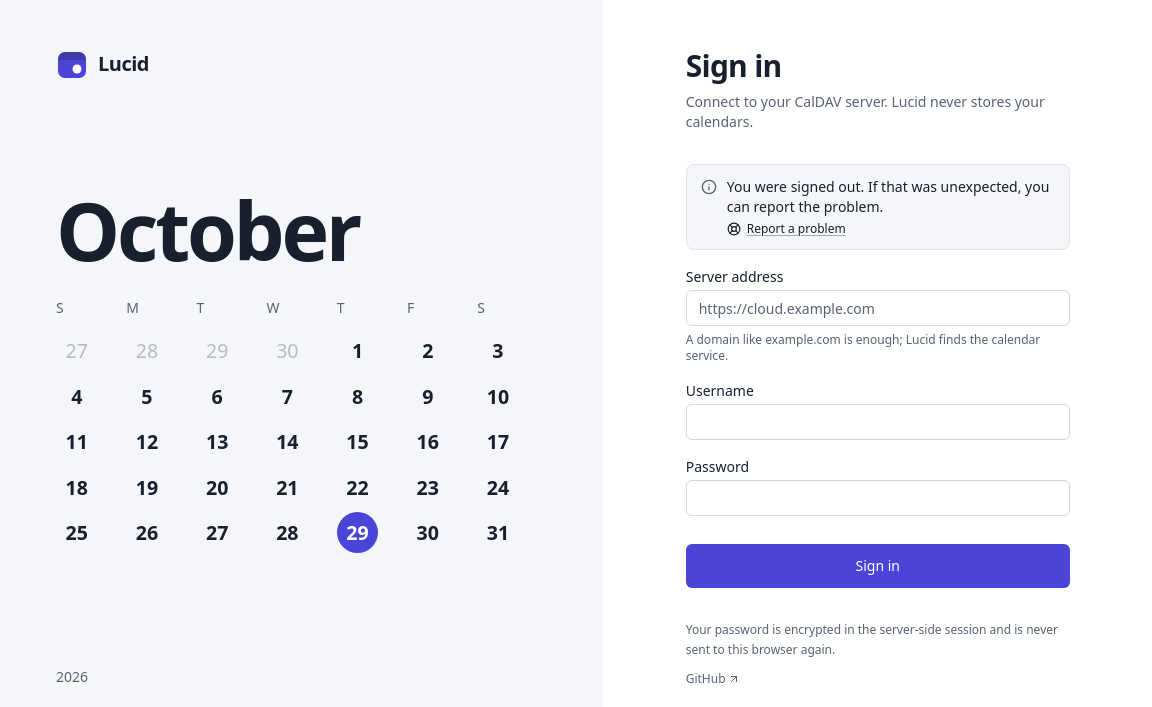
LoginPage › keeps the notice when the sign-in fails
Type "example.com" into the field labelled "Server address" at {"x": 878, "y": 308}, box x1=686 y1=290 x2=1070 y2=326
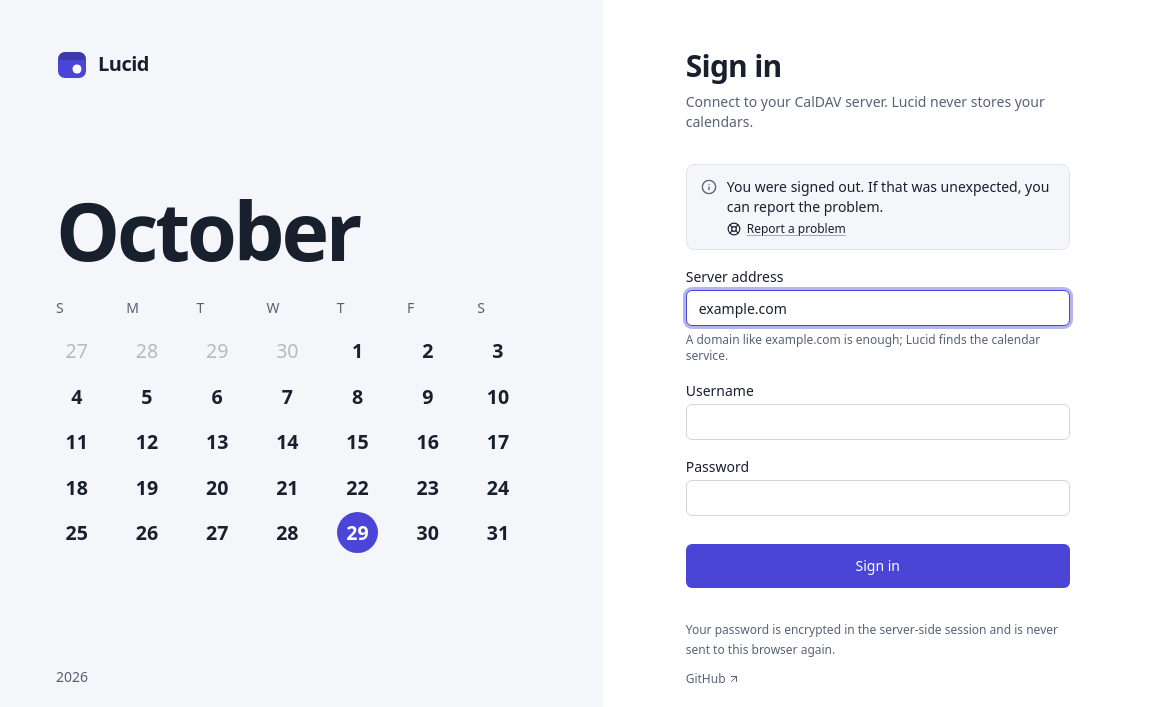
Type "tim" into the field labelled "Username" at {"x": 878, "y": 422}, box x1=686 y1=404 x2=1070 y2=440
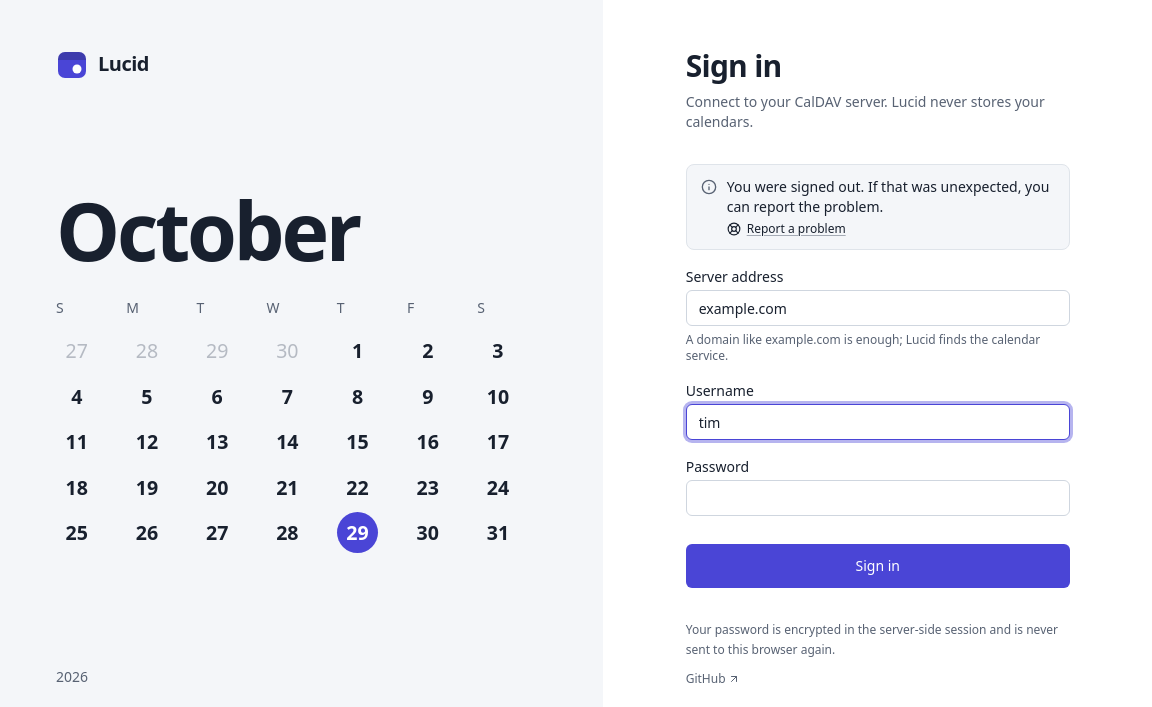
Type "wrong" into the password field labelled "Password" at {"x": 878, "y": 498}, box x1=686 y1=480 x2=1070 y2=516
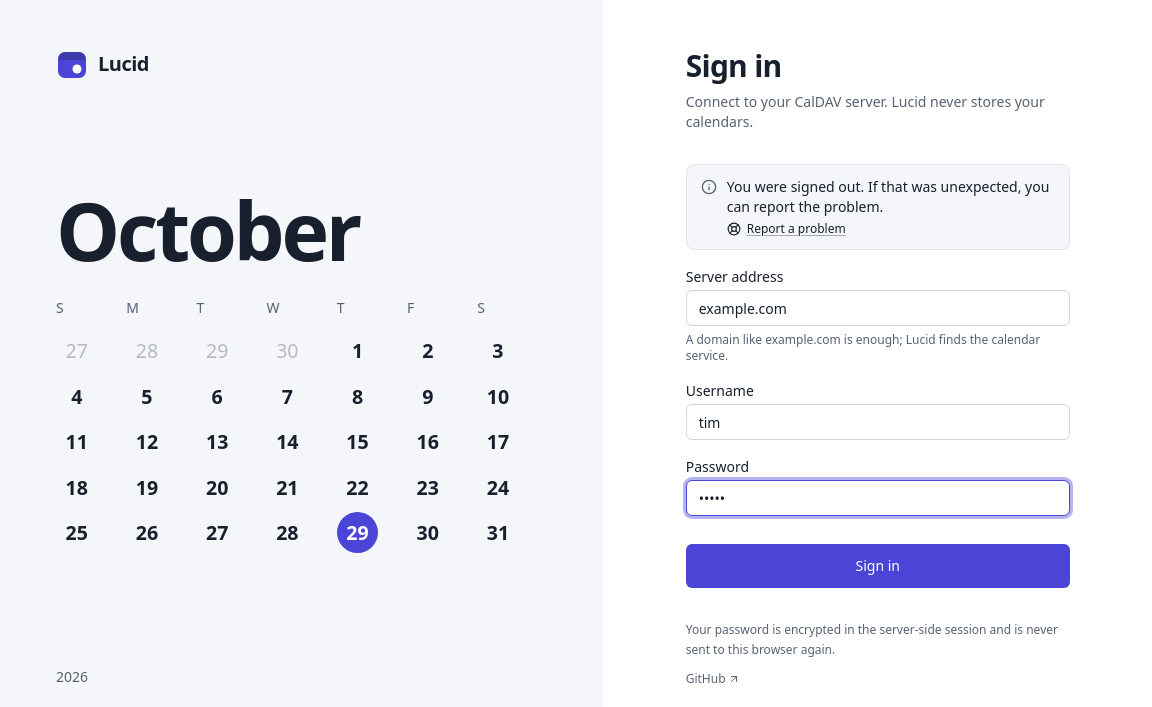
Click the button "Sign in" at {"x": 878, "y": 566}, box x1=686 y1=544 x2=1070 y2=588
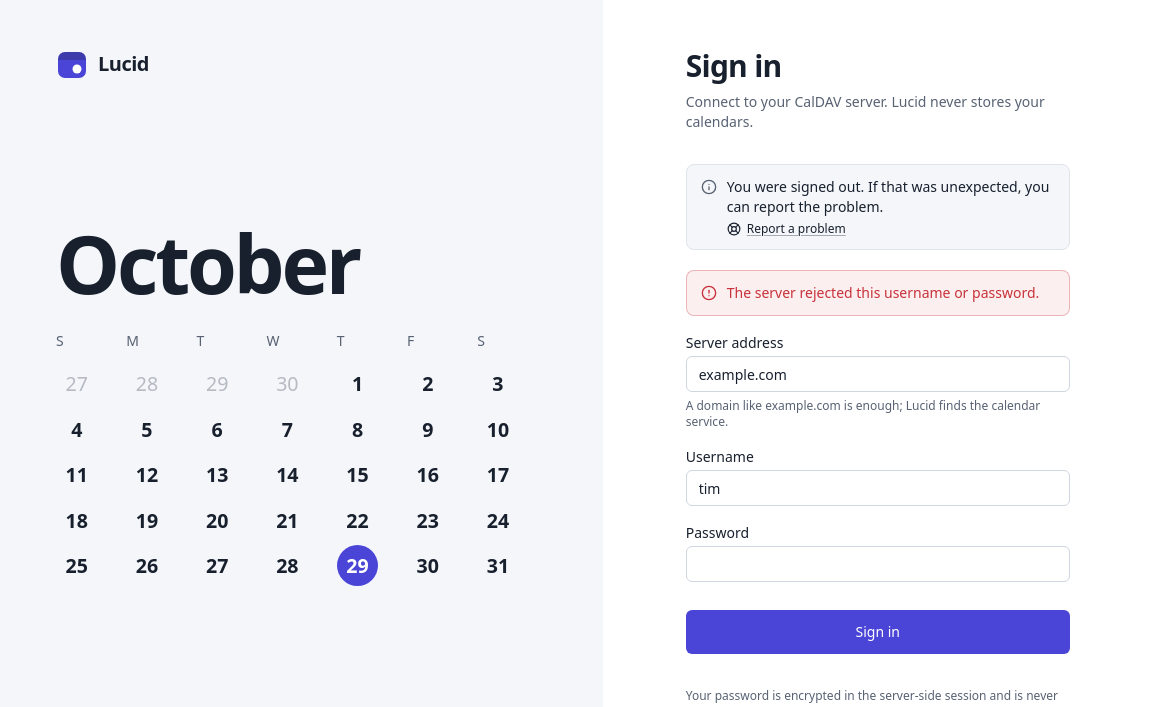
Check: the 1st message shows "You were signed out.", box x1=727 y1=177 x2=1049 y2=216
Check: the message "The server rejected this username or password." is shown, box x1=686 y1=270 x2=1070 y2=316
